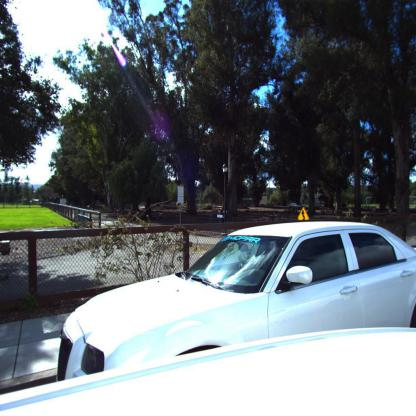car: (0, 222, 416, 416)
